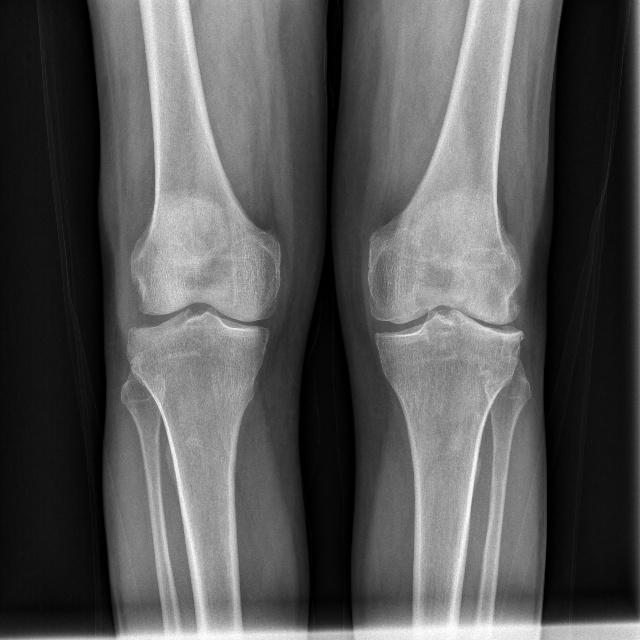Knee: (361, 263, 525, 371), (125, 258, 280, 369)
